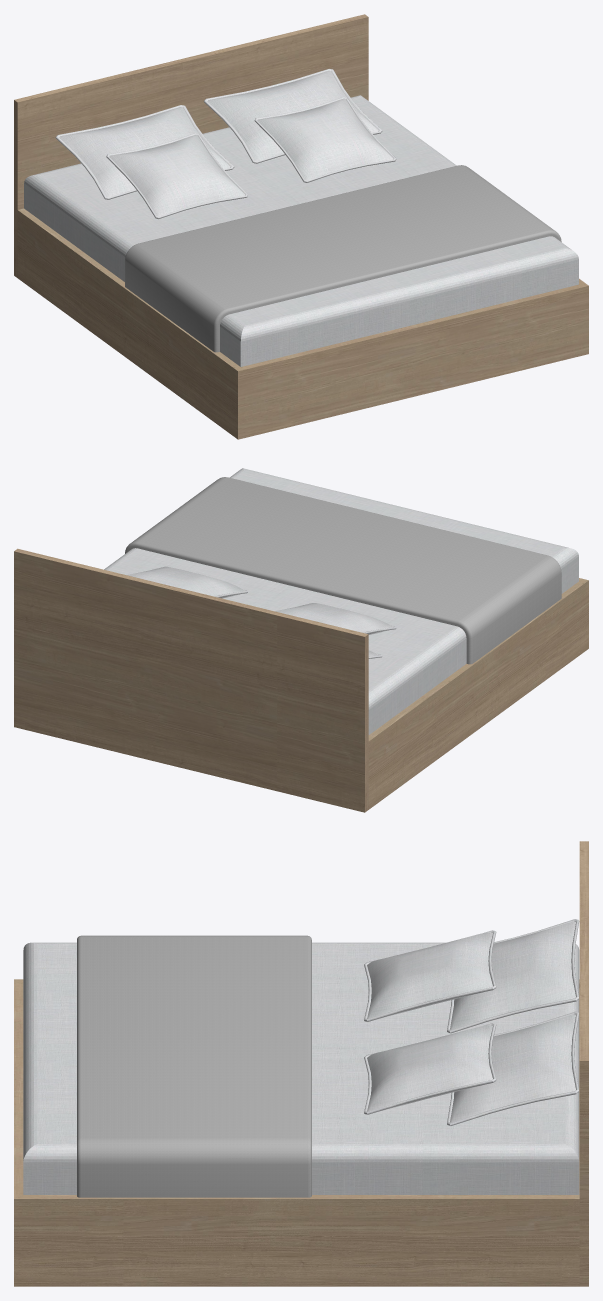
Rendered from 3D_G1800X2000_Gường đệm 1m8 x 2m.gltf.
3 renders of one model, top to bottom at view 1: azimuth 30°, elevation 25°; view 2: azimuth 150°, elevation 25°; view 3: azimuth 270°, elevation 25°, orthographic. The views are drawn at different scales.
Parts seen in each view (by area): view 1: Component#12, Component#4, object 6, object 2, 50x50_HaywardSky#1 (×2), 50x50_HaywardSky (×2); view 2: object 2, object 6, Component#4, Component#12, 50x50_HaywardSky#1 (×2); view 3: object 6, Component#12, Component#4, 50x50_HaywardSky (×2), 50x50_HaywardSky#1 (×2), object 2.
Boxes of the visible parts, box(x1,y1,x2,y2) form: Component#12: box(17, 208, 588, 439); Component#4: box(24, 95, 578, 366); object 6: box(125, 165, 561, 352); object 2: box(14, 14, 368, 277); 50x50_HaywardSky#1 (×2): box(106, 97, 396, 219); 50x50_HaywardSky (×2): box(55, 69, 382, 199); object 2: box(14, 548, 368, 812); object 6: box(125, 477, 561, 664); Component#4: box(104, 468, 578, 734); Component#12: box(368, 578, 588, 809); 50x50_HaywardSky#1 (×2): box(127, 566, 396, 634); object 6: box(77, 935, 311, 1197); Component#12: box(14, 979, 579, 1286); Component#4: box(23, 942, 579, 1194); 50x50_HaywardSky (×2): box(447, 919, 579, 1125); 50x50_HaywardSky#1 (×2): box(364, 930, 496, 1114); object 2: box(579, 841, 588, 1286).
Size of the model in its own units: 1.88 by 0.9 by 2.08.
5 materials, 4 textured.
